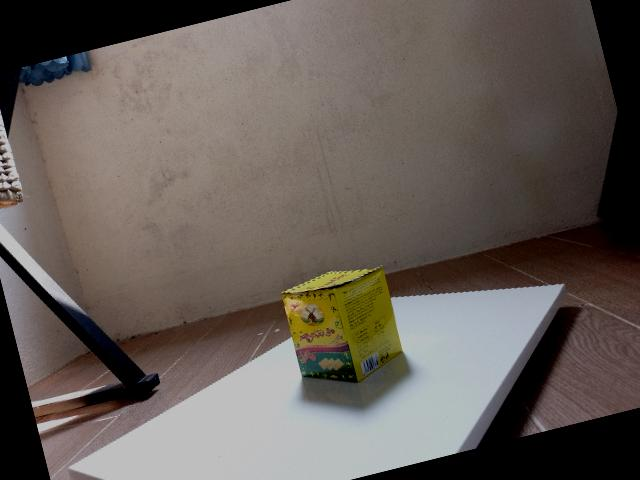luong_kho: (280, 266, 402, 383)
